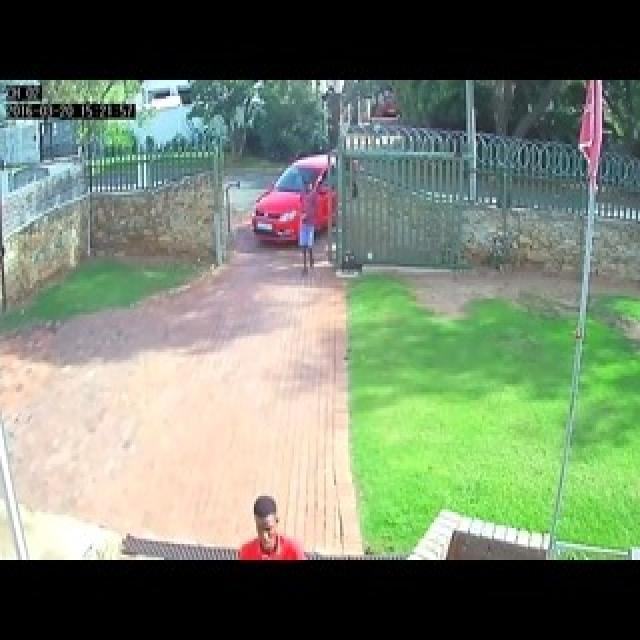thief: (288, 160, 320, 282), (246, 496, 292, 580)
